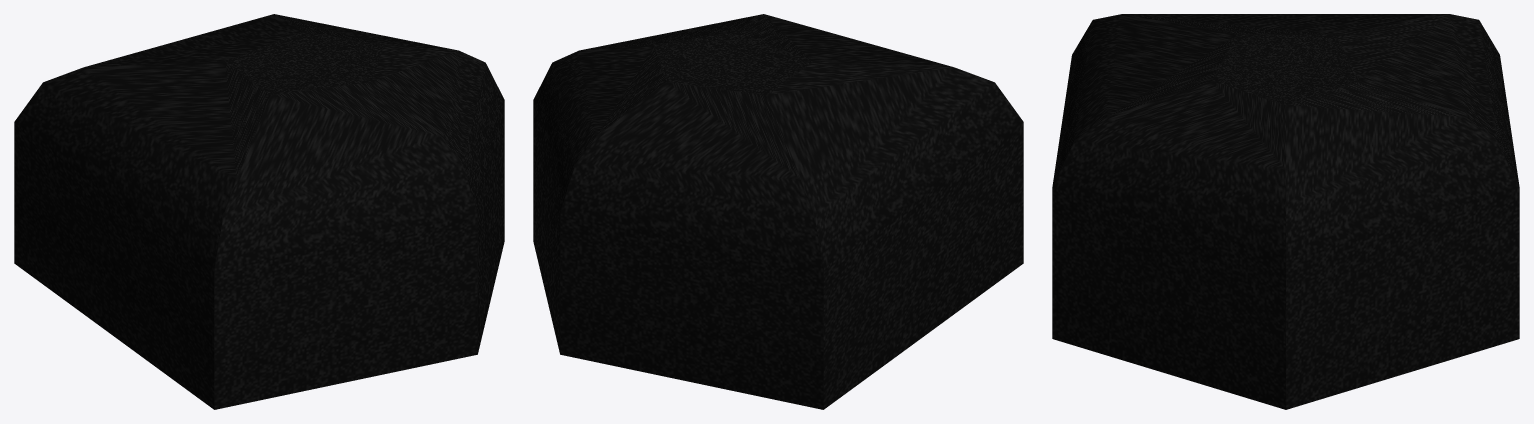
The model's file is carbonPenta.obj.
The picture shows the model from 3 angles, left to right: view 1: azimuth 30°, elevation 25°; view 2: azimuth 150°, elevation 25°; view 3: azimuth 270°, elevation 25°; orthographic projection. The views are drawn at different scales.
Parts seen in each view (by area): view 1: carbonPenta; view 2: carbonPenta; view 3: carbonPenta.
Part boxes in pixels (left/top/right/bottom): carbonPenta: left=14, top=14, right=504, bottom=409; carbonPenta: left=533, top=14, right=1023, bottom=409; carbonPenta: left=1052, top=14, right=1519, bottom=409.
Size of the model in its own units: 1.81 by 1 by 1.75.
1 material, 1 textured.
